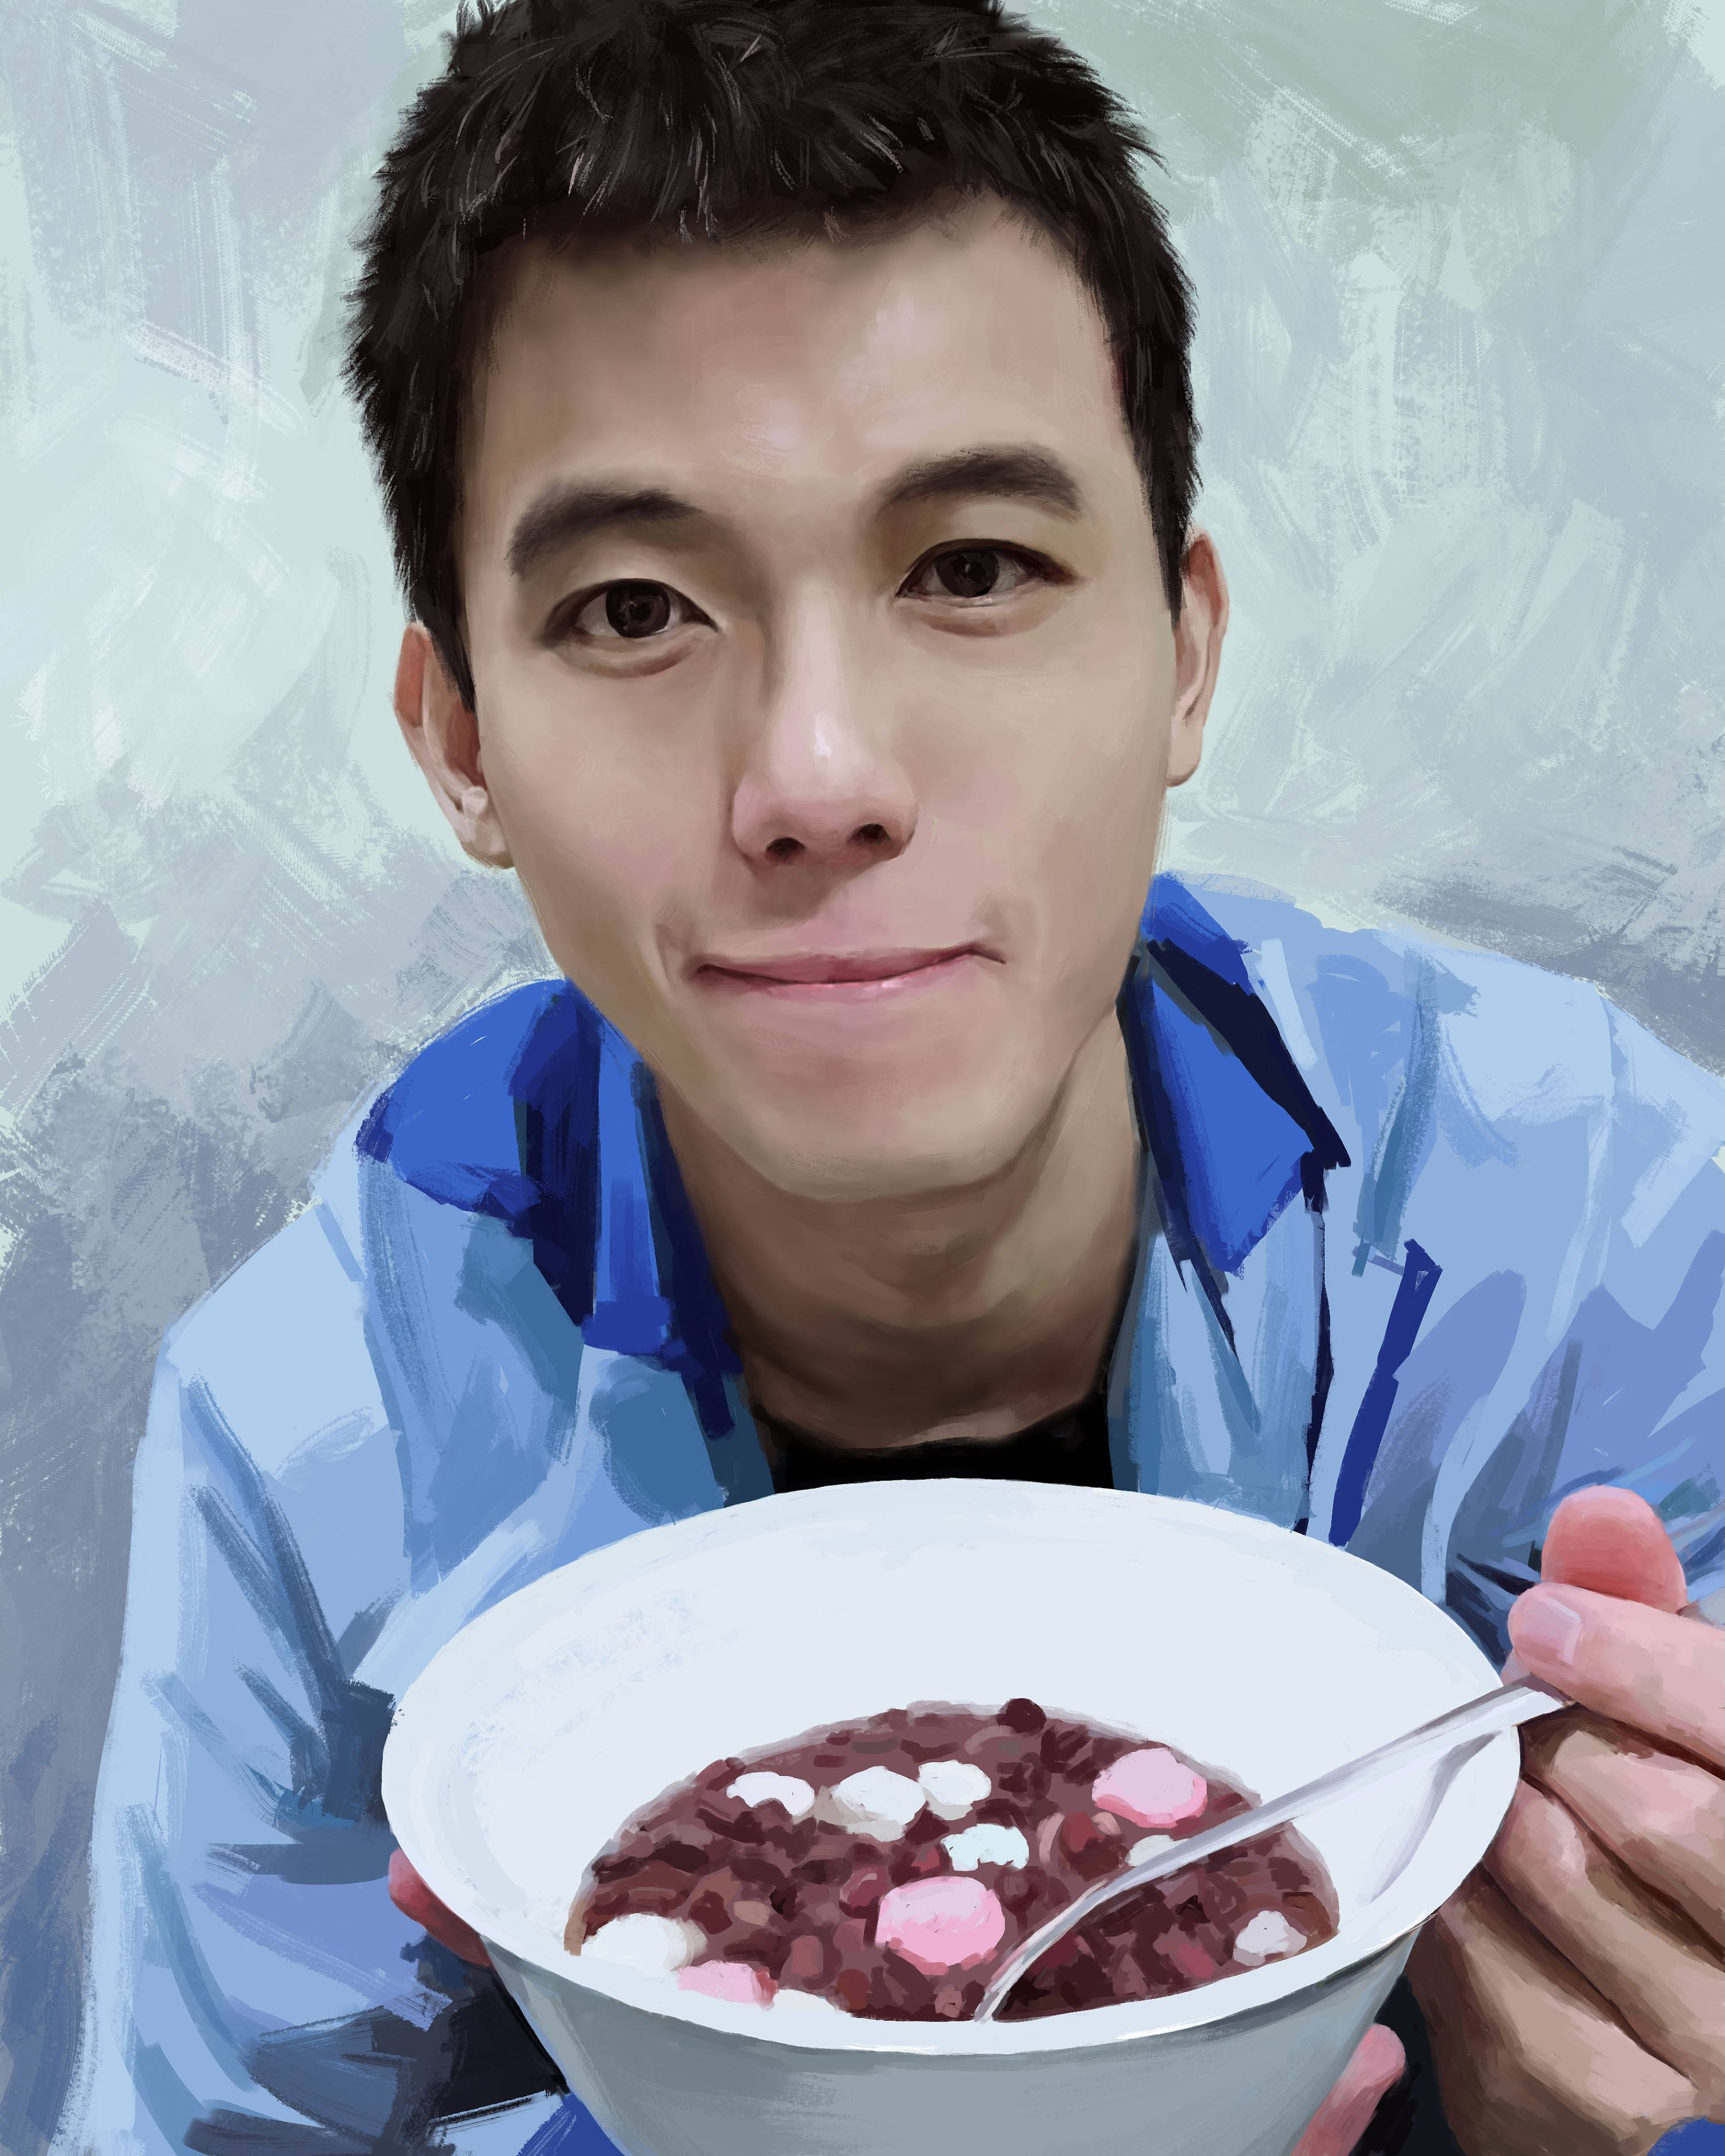person: (164, 20, 1632, 1832)
